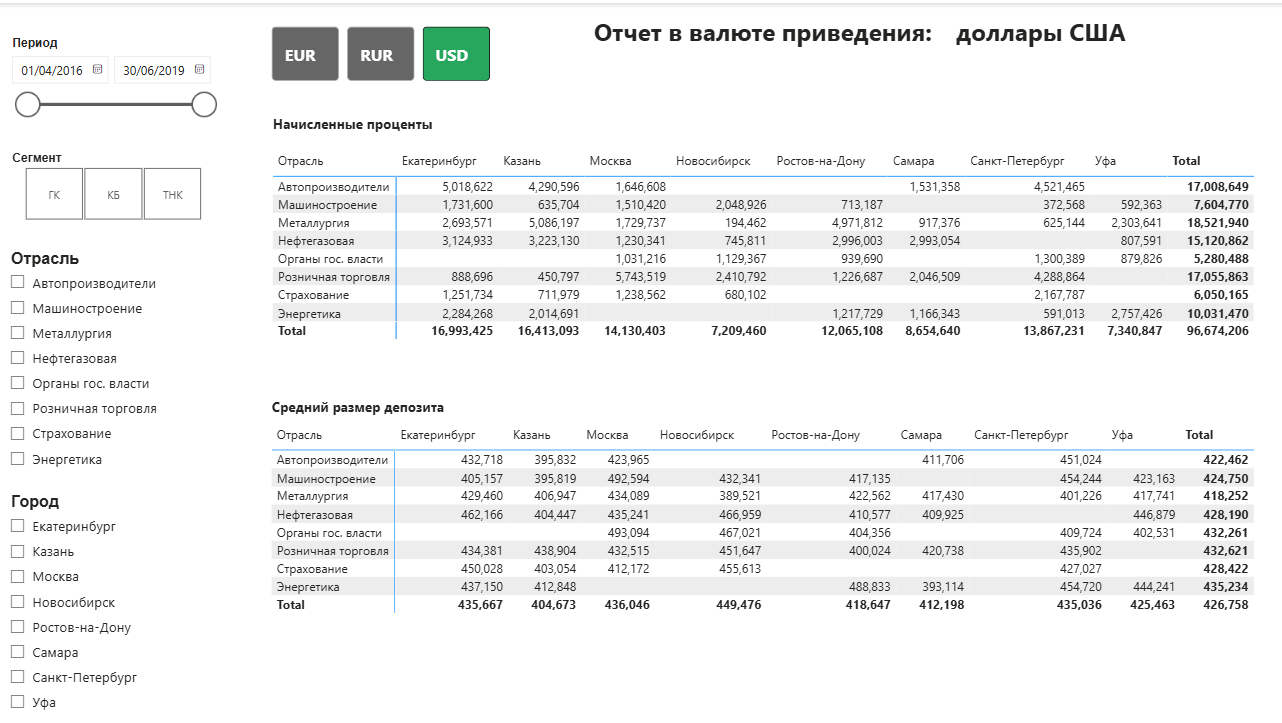

The dashboard page shown, as its layout file describes it:
{"tool":"powerbi","page":{"name":"Отрасли/города в валюте привед.","canvas":[1280,720],"ordinal":3},"visuals":[{"type":"textbox","title":"Header1","box":[267.1,391,203.1,23.7],"z":0},{"type":"textbox","title":"Header1","box":[268.2,108.8,212.9,23.7],"z":1000},{"type":"textbox","title":"Header1","box":[556.5,7,410.4,45.9],"z":2000},{"type":"slicer","fields":{"Values":["Клиенты-Ставки.Город"]},"box":[0,482.7,225.2,237.6],"z":3000},{"type":"slicer","fields":{"Values":["Клиенты-Ставки.Отрасль"]},"box":[0,240.1,225.2,231.4],"z":4000},{"type":"slicer","fields":{"Values":["Календарь.Дата"]},"box":[1.2,27.4,225.2,93.3],"z":5000},{"type":"slicer","fields":{"Values":["Клиенты-Ставки.Сегмент"]},"box":[1.2,141.8,225.2,80.9],"z":6000},{"type":"pivotTable","fields":{"Columns":["Клиенты-Ставки.Город"],"Rows":["Клиенты-Ставки.Отрасль"],"Values":["Показатели.ALL 5 Средний размер депозита"]},"box":[267.1,414.6,990.6,233.7],"z":7000},{"type":"pivotTable","fields":{"Columns":["Клиенты-Ставки.Город"],"Rows":["Клиенты-Ставки.Отрасль"],"Values":["Показатели.ALL 3 Начисленные проценты"]},"box":[268.2,142.2,990.6,224],"z":8000},{"type":"advancedSlicerVisual","fields":{"Values":["Валюта отчета.Валюта"]},"box":[267.1,18.1,228.2,64],"z":9000},{"type":"card","fields":{"Values":["Показатели.Выбрана валюта приведения"]},"box":[937.7,10,200.3,40.3],"z":10000}]}

Visuals, with their boxes in screenshot pixels (x1, y1, x2, y2), scaled from the page's 1280x720 canvas onto the 1282x723 screenshot:
"Header1" textbox: BBox(268, 393, 471, 416)
"Header1" textbox: BBox(269, 109, 482, 133)
"Header1" textbox: BBox(557, 7, 968, 53)
slicer - Клиенты-Ставки.Город: BBox(0, 485, 226, 722)
slicer - Клиенты-Ставки.Отрасль: BBox(0, 241, 226, 473)
slicer - Календарь.Дата: BBox(1, 28, 227, 121)
slicer - Клиенты-Ставки.Сегмент: BBox(1, 142, 227, 224)
pivotTable - Клиенты-Ставки.Город x Клиенты-Ставки.Отрасль: BBox(268, 416, 1260, 651)
pivotTable - Клиенты-Ставки.Город x Клиенты-Ставки.Отрасль: BBox(269, 143, 1261, 368)
advancedSlicerVisual - Валюта отчета.Валюта: BBox(268, 18, 496, 82)
card - Показатели.Выбрана валюта приведения: BBox(939, 10, 1140, 51)
